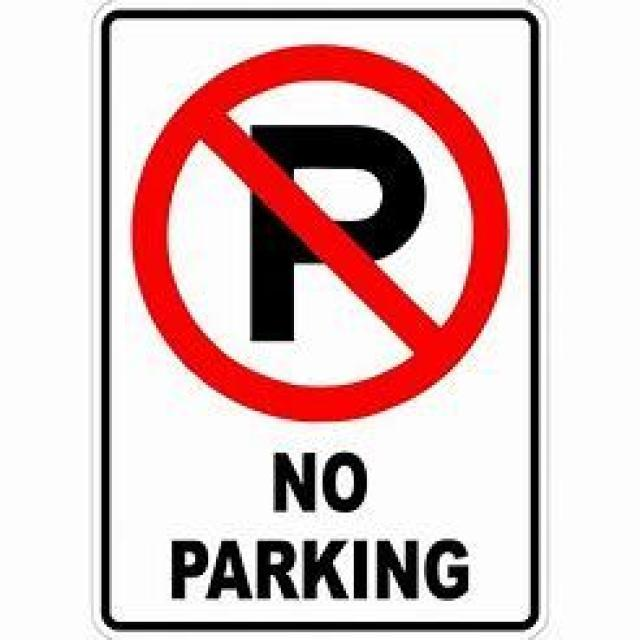no parking: (134, 40, 510, 422)
